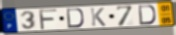3: (19, 10, 37, 30)
7: (116, 4, 134, 27)
D: (138, 5, 158, 26), (66, 8, 86, 29)
F: (37, 8, 58, 31)
K: (90, 7, 108, 27)
